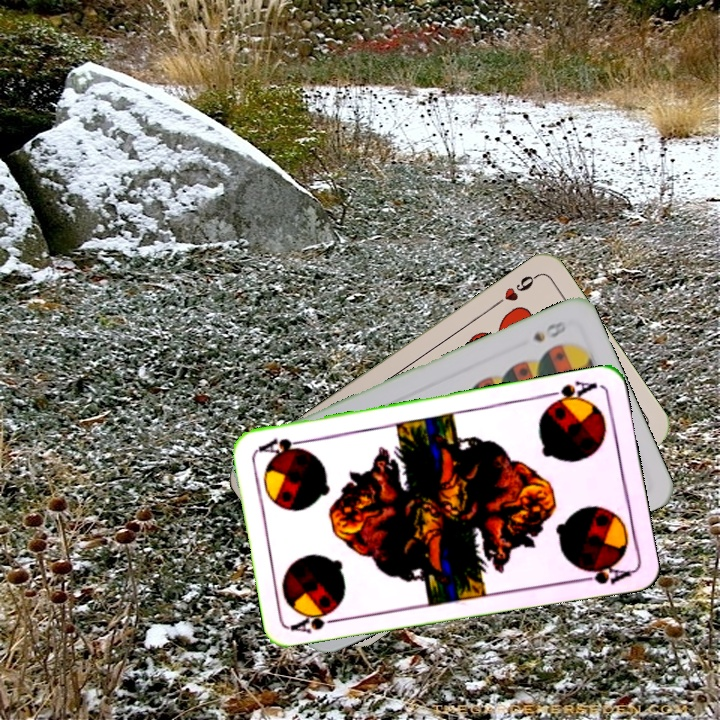H9: (489, 270, 540, 311)
S8: (528, 317, 569, 345)
SA: (541, 377, 600, 410), (288, 610, 347, 637)
